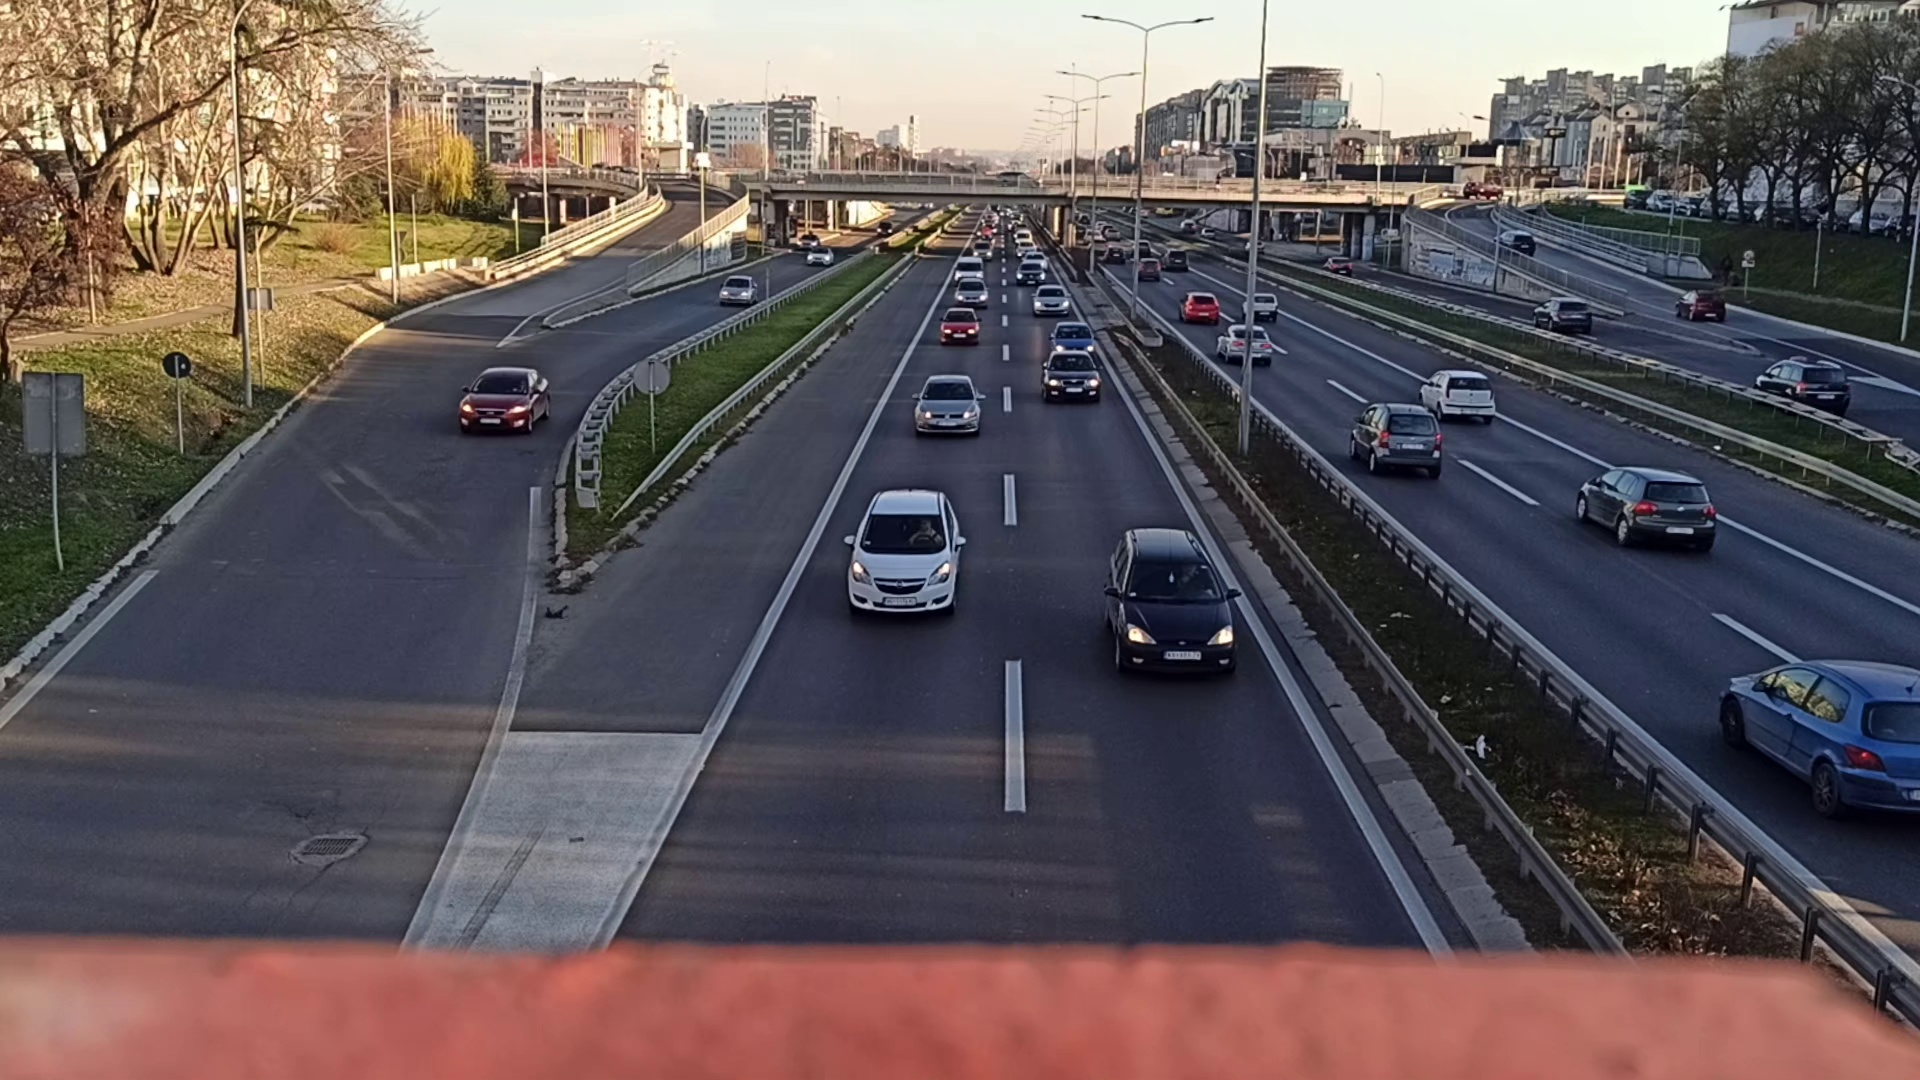car: (1724, 658, 1920, 819), (1102, 524, 1236, 680), (847, 488, 963, 625), (1577, 462, 1716, 554), (1350, 401, 1441, 483), (460, 364, 551, 436), (915, 375, 980, 439), (1420, 368, 1495, 422), (1043, 352, 1101, 400), (1217, 322, 1271, 363), (1050, 320, 1096, 353), (940, 309, 980, 345), (1179, 289, 1216, 323), (719, 274, 757, 305), (1033, 284, 1068, 315), (1240, 289, 1276, 316), (953, 280, 986, 306), (807, 247, 833, 264)
